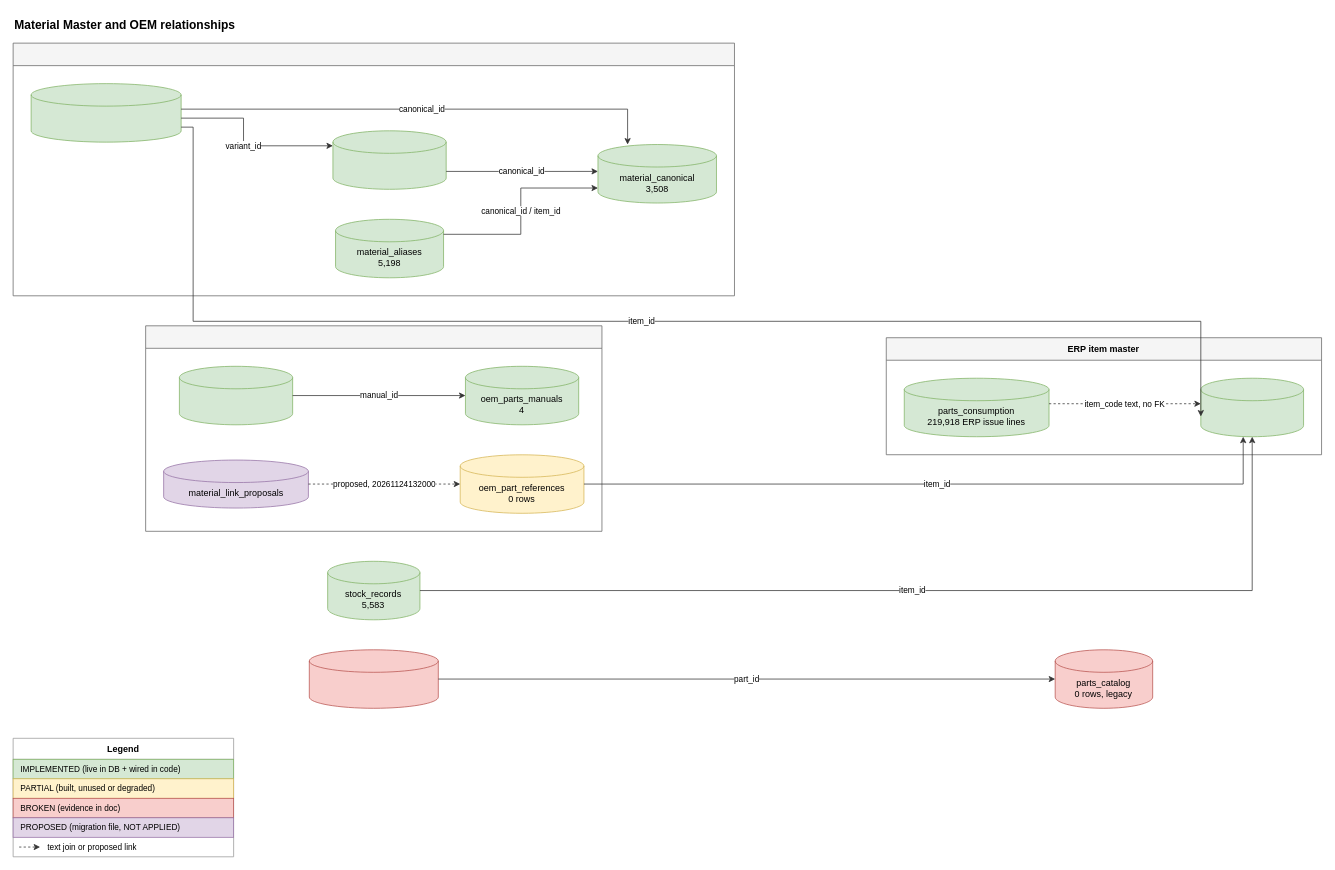
This 1335x870 diagram has some shape labels left out. Here are the shapes that lost their labels. From the top down, the box of each, then its label:
(30, 83, 181, 142): material_canonical_items 3,508 links
(12, 42, 734, 296): Governed catalogue
(332, 130, 446, 189): material_variants 1,335
(179, 366, 293, 425): oem_parts_entries 1,652
(1200, 377, 1304, 437): material_master 23,274 rows
(145, 325, 602, 531): OEM manuals
(309, 649, 438, 708): parts_requests 2 rows, part_id null
